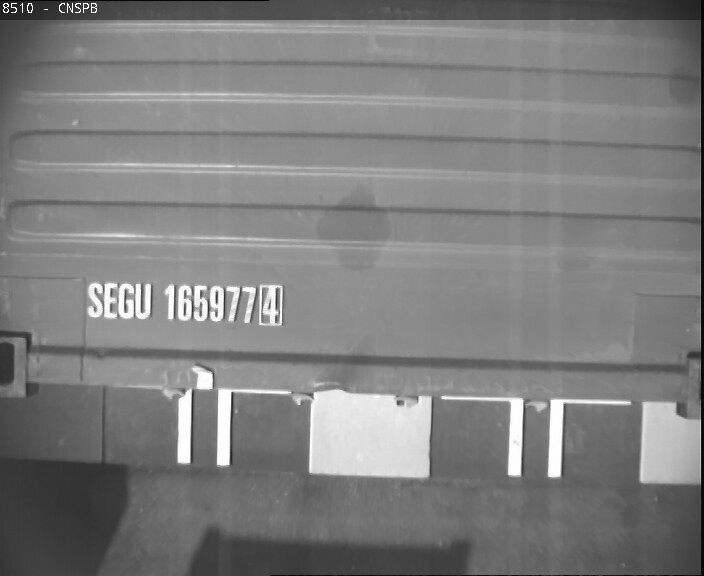groundmarker_1: (439, 394, 631, 479)
